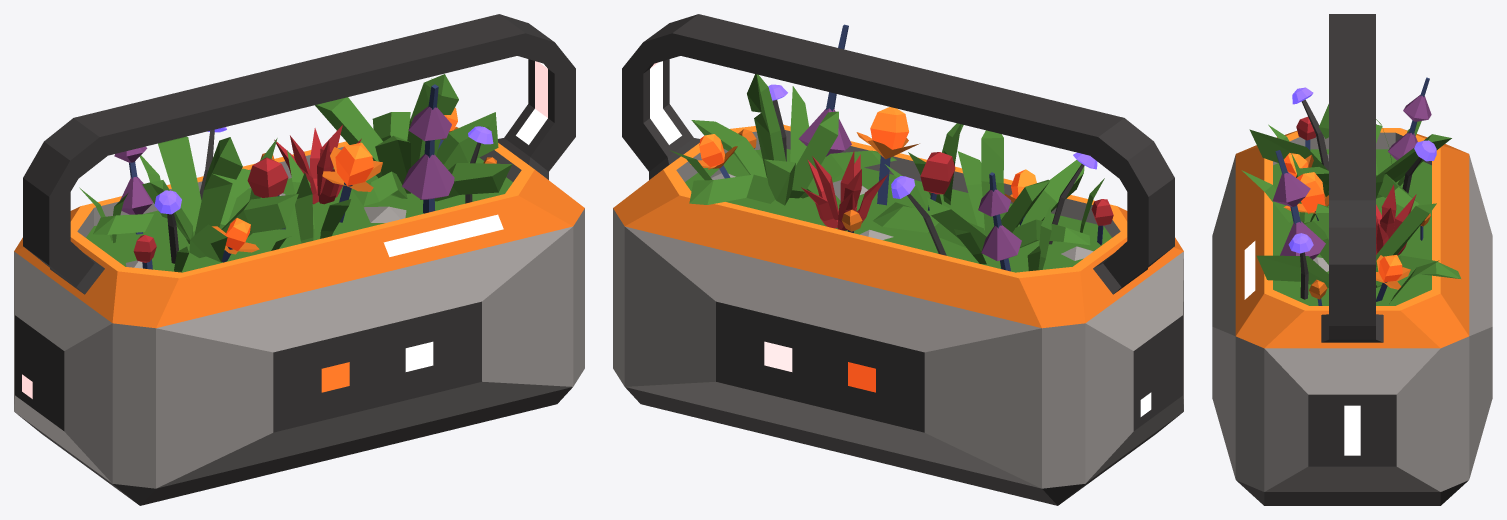
File: scifi_scifi-pot-medium-plants.fbx
3 views of the same model, side by side, from view 1: azimuth 30°, elevation 25°; view 2: azimuth 150°, elevation 25°; view 3: azimuth 270°, elevation 25° (orthographic). The views are drawn at different scales.
Visible parts, largest first — view 1: scifi_scifi_pot_medium_plants; view 2: scifi_scifi_pot_medium_plants; view 3: scifi_scifi_pot_medium_plants.
Part boxes in pixels (x1,y1,x2,y2): scifi_scifi_pot_medium_plants: (14,14,584,505); scifi_scifi_pot_medium_plants: (613,14,1183,505); scifi_scifi_pot_medium_plants: (1212,14,1492,505).
Bounding box in the file's own units: 200 × 125 × 103.
